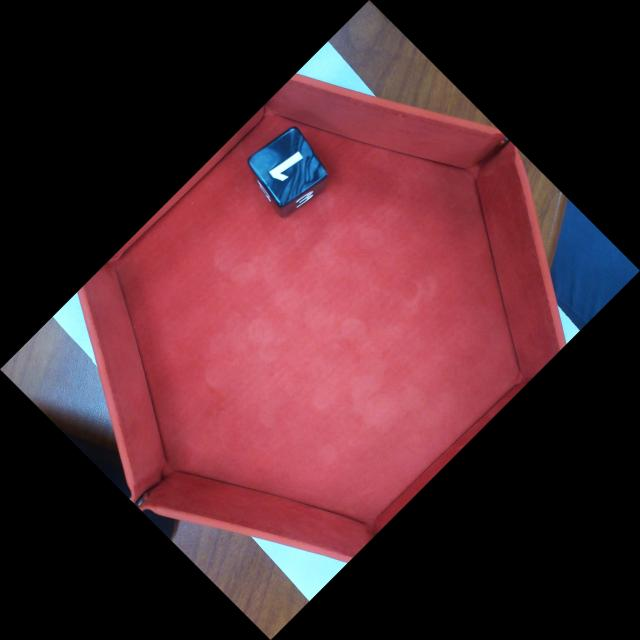dice: (244, 123, 331, 211)
